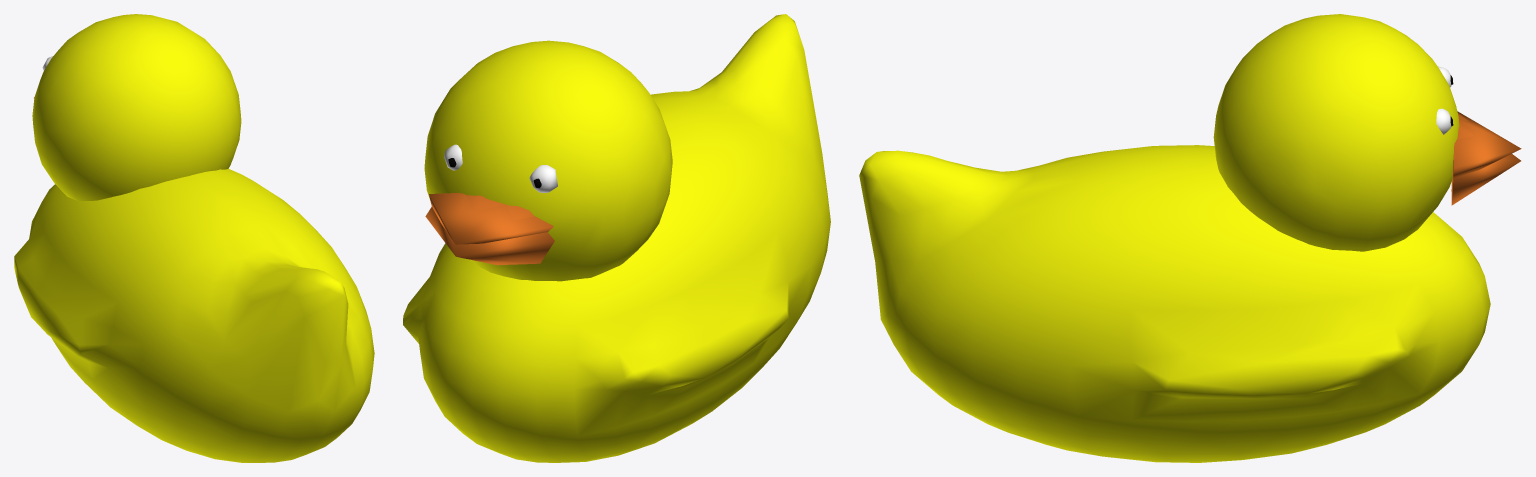
The model's file is asset2.glb.
The picture shows the model from 3 angles, left to right: view 1: azimuth 30°, elevation 25°; view 2: azimuth 150°, elevation 25°; view 3: azimuth 270°, elevation 25°; orthographic projection. The views are drawn at different scales.
Visible parts, largest first — view 1: Cone; view 2: Cone; view 3: Cone.
Part boxes in pixels (x1,y1,x2,y2): Cone: [14, 14, 374, 462]; Cone: [403, 14, 830, 462]; Cone: [859, 14, 1521, 462].
Bounding box in the file's own units: 2.21 × 2.93 × 4.16.
Materials: 6 (1 with a texture image).
